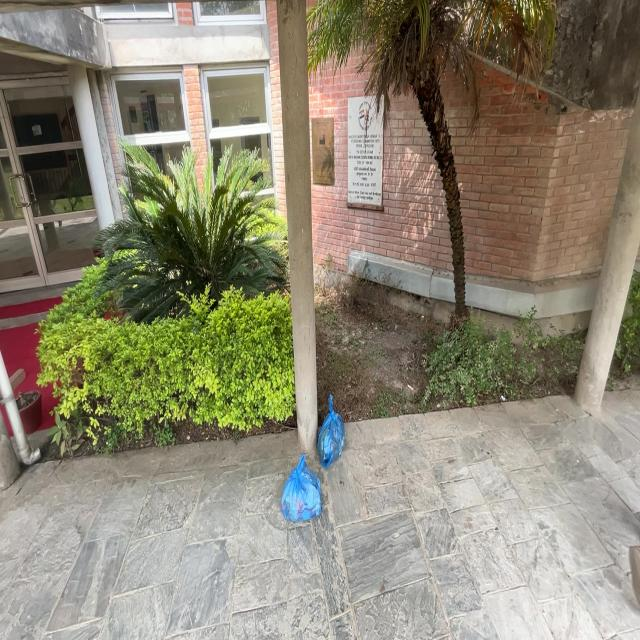garbage: (272, 455, 329, 531), (309, 392, 348, 475)
